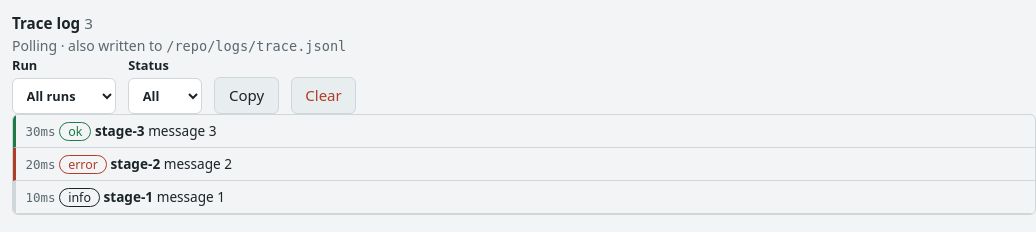
Test: TraceLog › filters by run and by status, and copies what is shown
Later steps or results of the test are not shown.
Expected: the text "message 3" is shown, [148,121,216,140]
Select "Beta · b2" in the dropdown labelled "Run": (64,96) [12,78,116,114]
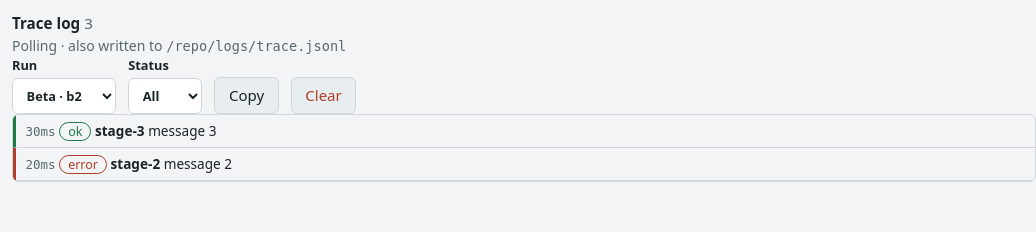
Expected: the number of list items is 2, [13,115,1035,148]; [13,148,1035,181]
Select "error" in the dropdown labelled "Status": (165,96) [128,78,202,114]
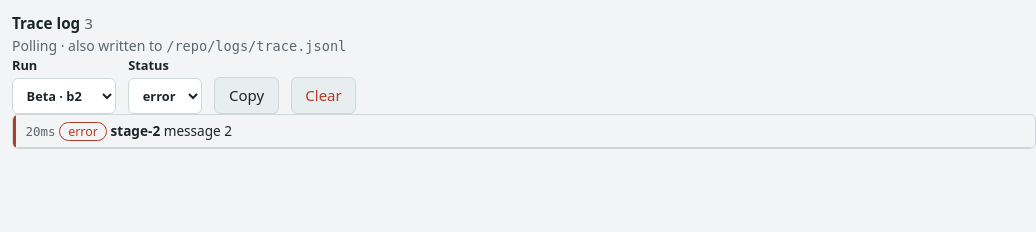
Expected: the number of list items is 1, [13,115,1035,148]
